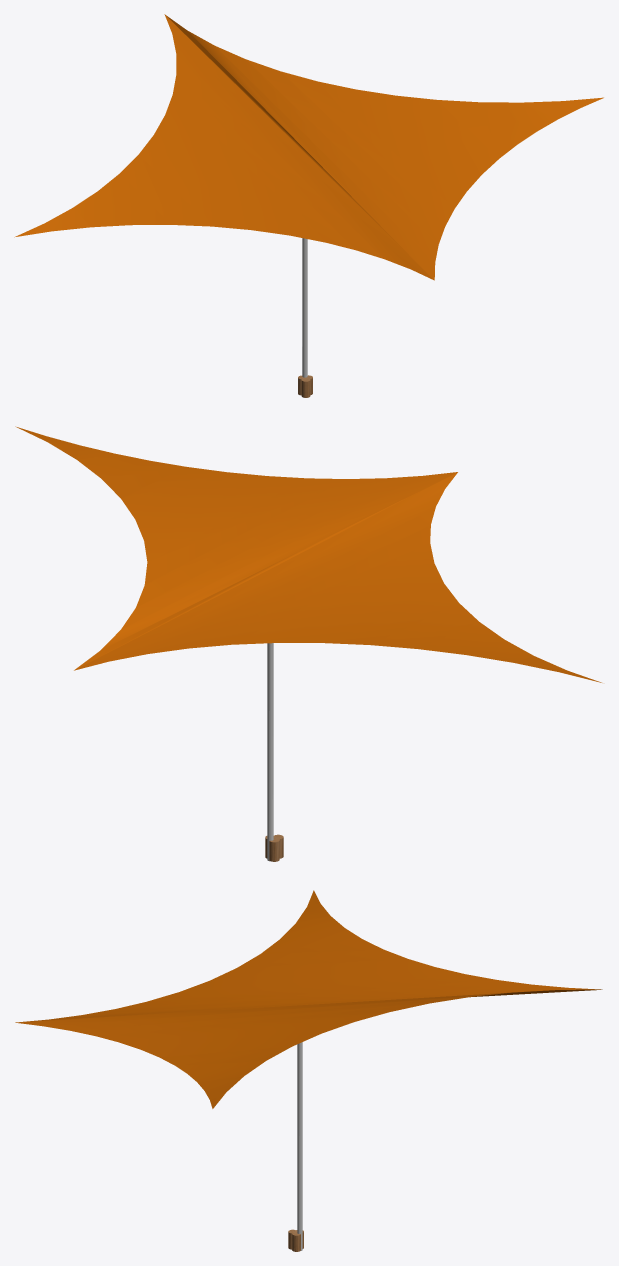
Rendered from Umbrella.glb.
The picture shows the model from 3 angles, top to bottom: view 1: azimuth 30°, elevation 25°; view 2: azimuth 150°, elevation 25°; view 3: azimuth 270°, elevation 25°; orthographic projection. The views are drawn at different scales.
Visible parts, largest first — view 1: Geom3D_.452, Geom3D_.451; view 2: Geom3D_.452, Geom3D_.451; view 3: Geom3D_.452, Geom3D_.451.
Part boxes in pixels (<box>): Geom3D_.452: <box>14,14,603,280</box>; Geom3D_.451: <box>302,238,307,377</box>; Geom3D_.452: <box>15,426,601,682</box>; Geom3D_.451: <box>267,643,273,861</box>; Geom3D_.452: <box>15,890,602,1108</box>; Geom3D_.451: <box>297,1042,302,1250</box>.
Bounding box in the file's own units: 6.97 × 3.27 × 6.58.
Materials: 3 (1 with a texture image).
